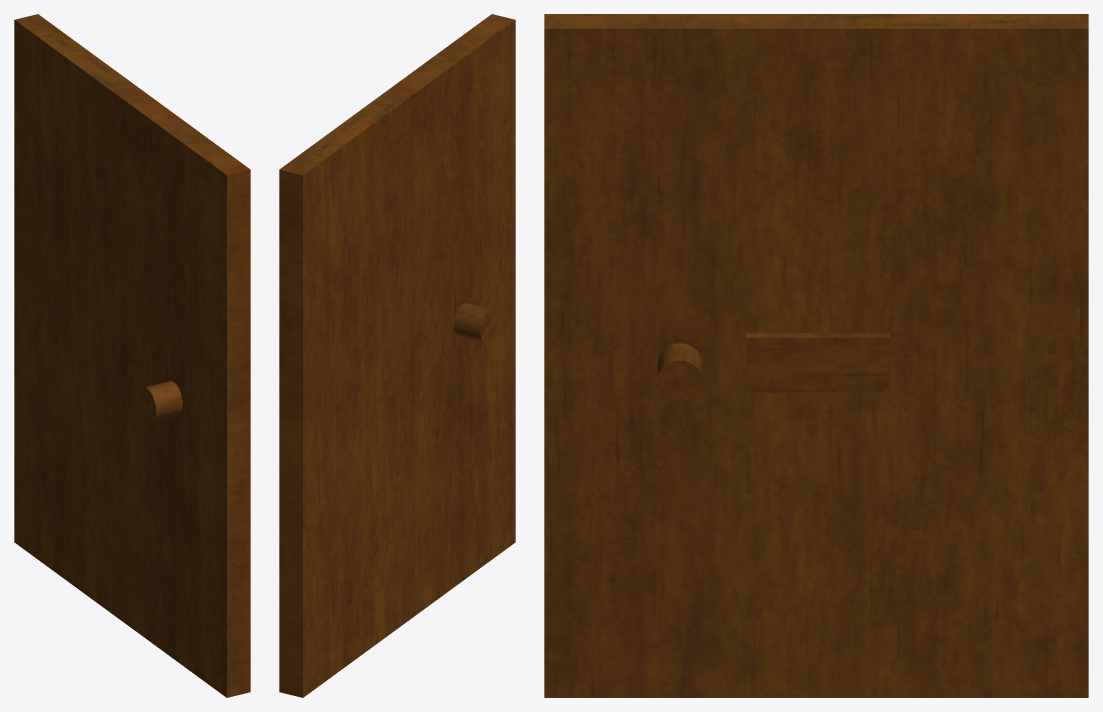
The model's file is DoorHandleDoor.glb.
The picture shows the model from 3 angles, left to right: view 1: azimuth 30°, elevation 25°; view 2: azimuth 150°, elevation 25°; view 3: azimuth 270°, elevation 25°; orthographic projection. The views are drawn at different scales.
Visible parts, largest first — view 1: Cylinder; view 2: Cylinder; view 3: Cylinder.
Boxes of the visible parts, x1=… form: Cylinder: x1=14, y1=14, x2=250, y2=697; Cylinder: x1=279, y1=14, x2=515, y2=697; Cylinder: x1=544, y1=14, x2=1088, y2=697.
Size of the model in its own units: 0.7432 by 4.78 by 3.52.
Materials: 1 (1 with a texture image).
